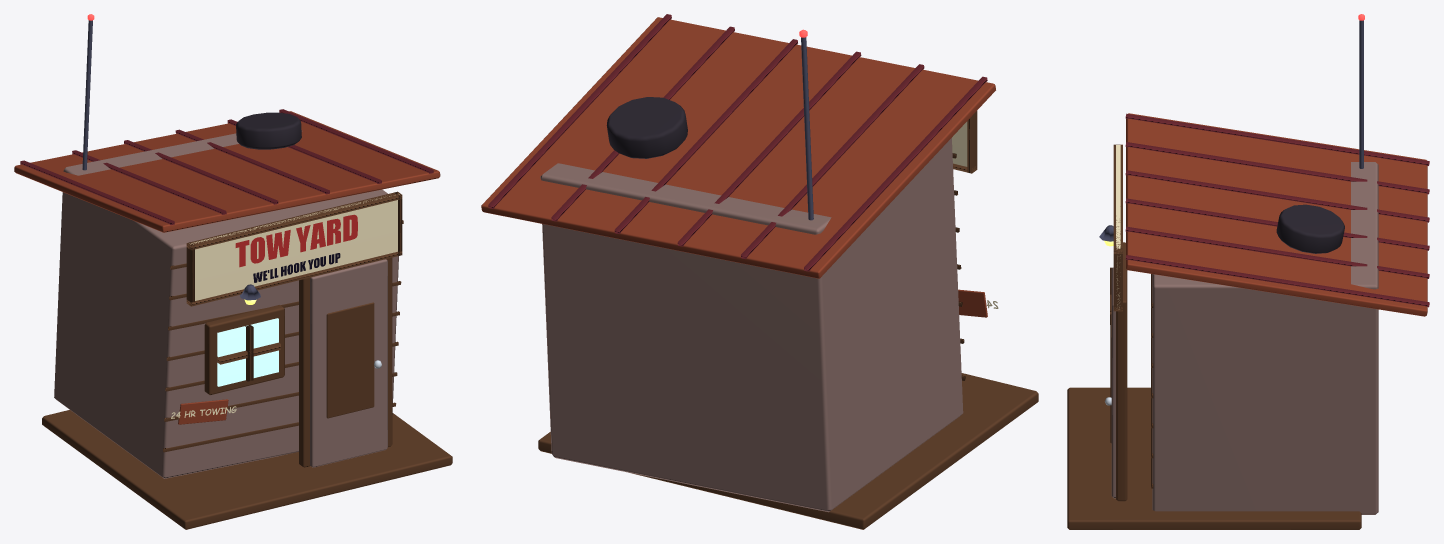
Rendered from tow_shack.glb.
3 renders of one model, left to right at view 1: azimuth 30°, elevation 25°; view 2: azimuth 150°, elevation 25°; view 3: azimuth 270°, elevation 25°, orthographic. The views are drawn at different scales.
Visible parts, largest first — view 1: Shack; view 2: Shack; view 3: Shack.
Boxes of the visible parts, x1,y1,x2,y2 form: Shack: (14,14,452,529); Shack: (481,14,1038,529); Shack: (1067,14,1429,529).
Size of the model in its own units: 2.97 by 3.98 by 3.2.
